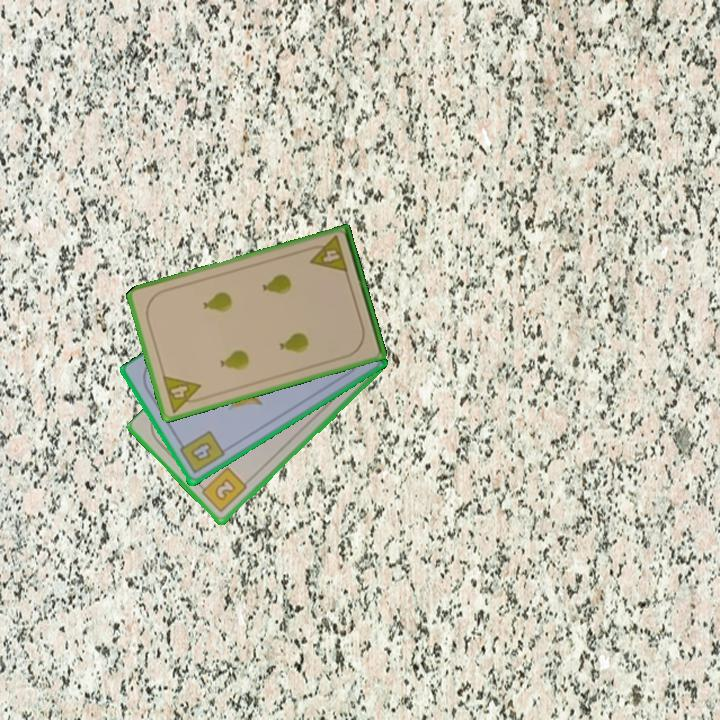2b: (195, 464, 250, 515)
4b: (174, 427, 227, 477)
4p: (159, 372, 207, 416), (304, 232, 351, 276)
